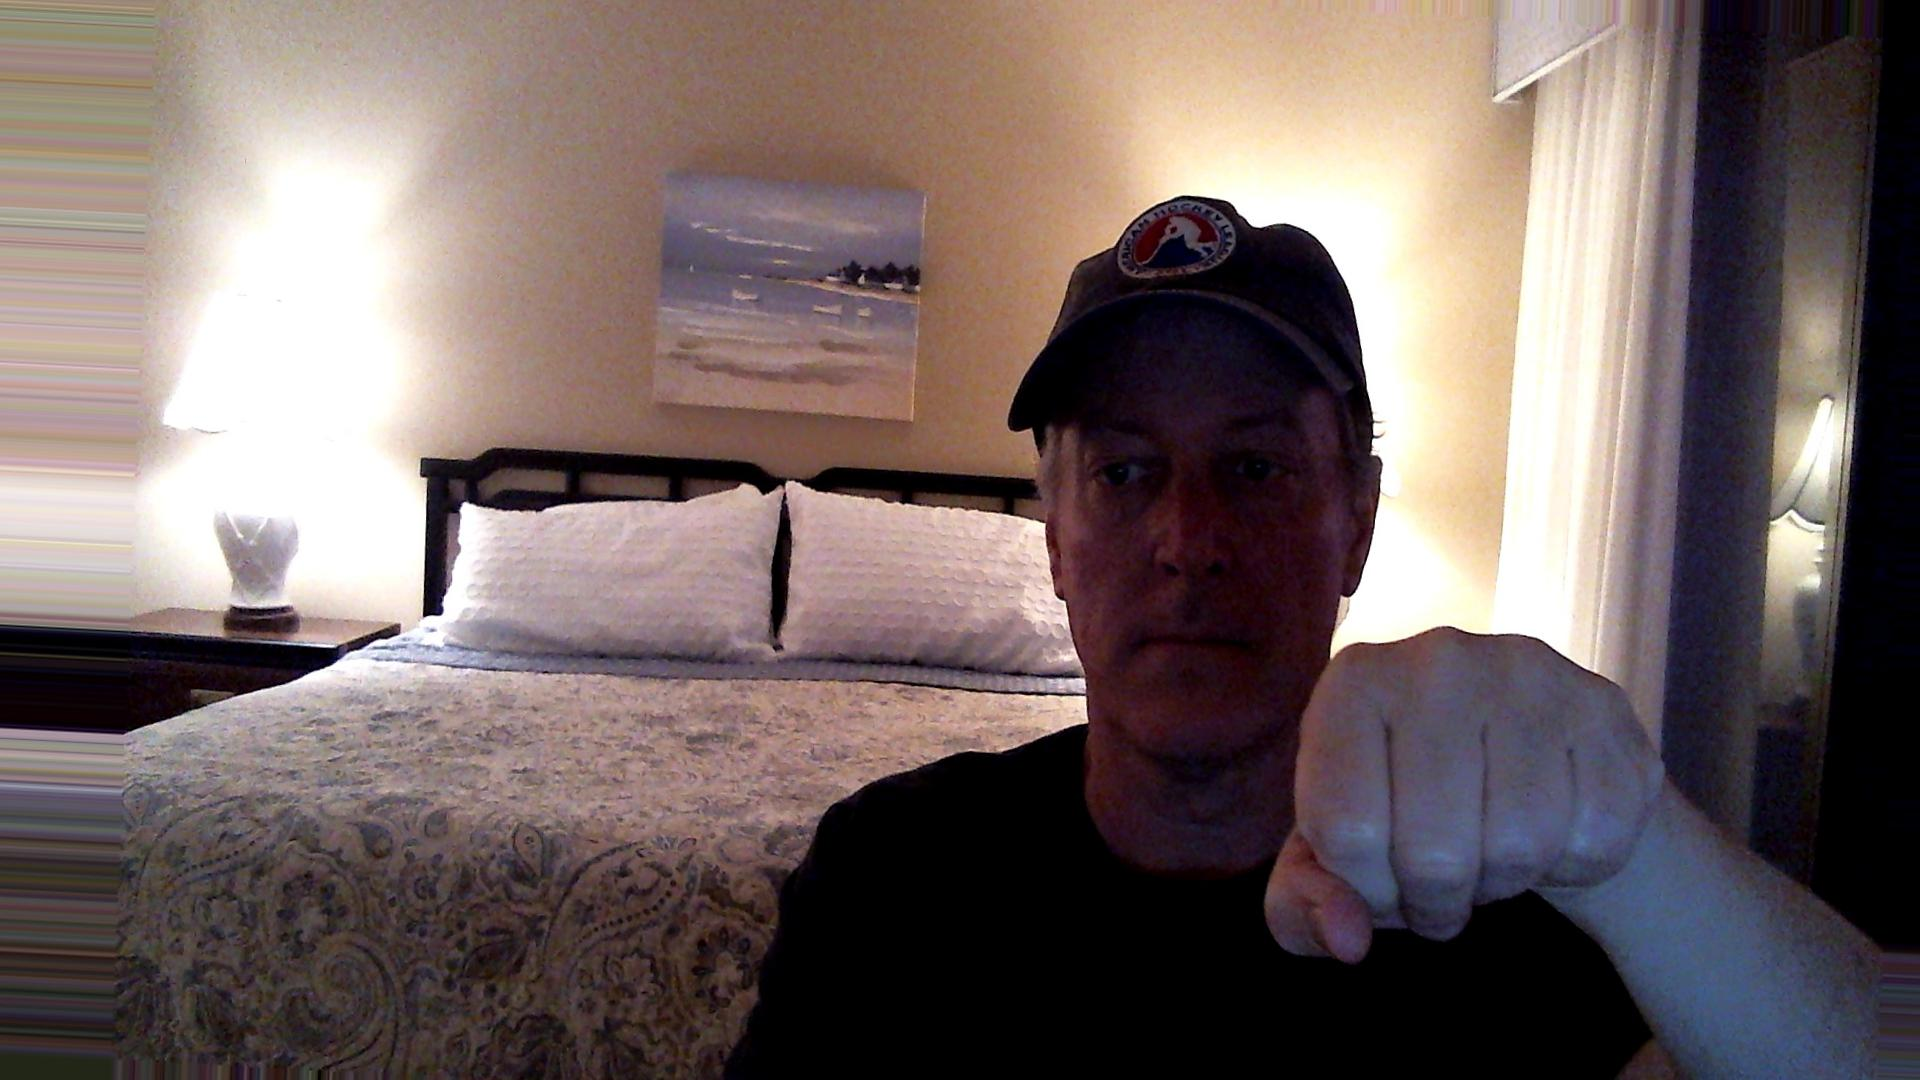Yes: (1236, 596, 1712, 990)
